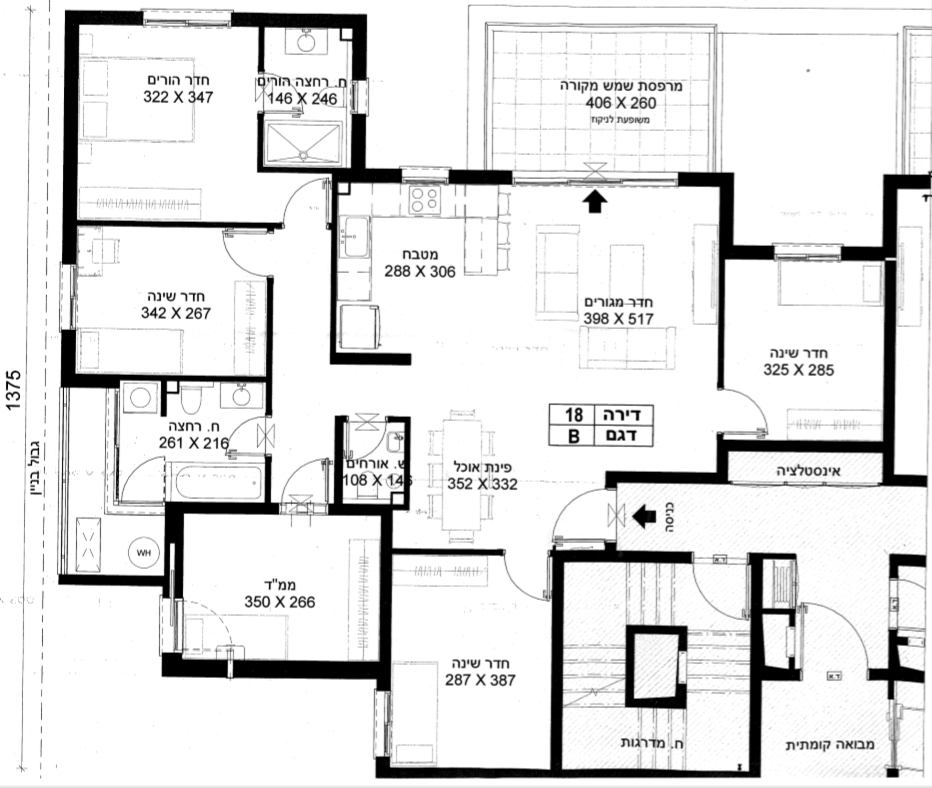door: (795, 595, 875, 667), (693, 565, 750, 623), (551, 485, 601, 545), (217, 227, 268, 279), (280, 173, 331, 221), (281, 450, 332, 498), (121, 447, 172, 495), (502, 555, 550, 606), (727, 383, 771, 437)
wall: (64, 9, 77, 260), (551, 550, 564, 777), (884, 260, 896, 483), (233, 660, 378, 677), (380, 515, 391, 691), (232, 13, 366, 26), (164, 502, 278, 513), (162, 659, 227, 677), (721, 172, 733, 256), (884, 174, 896, 258), (328, 503, 393, 514)
